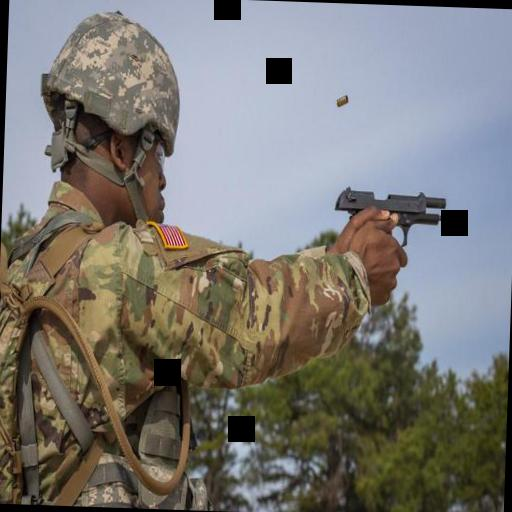Handgun: (332, 180, 446, 250)
